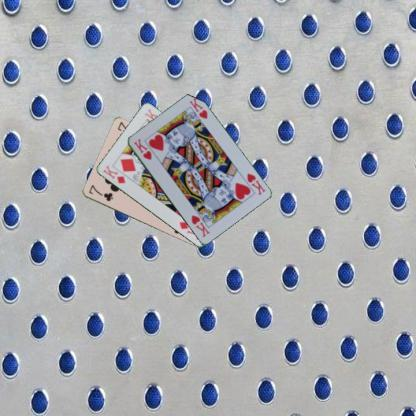7c: (86, 182, 114, 203)
Kd: (100, 162, 126, 185)
Kh: (244, 170, 266, 196), (131, 136, 153, 161)
